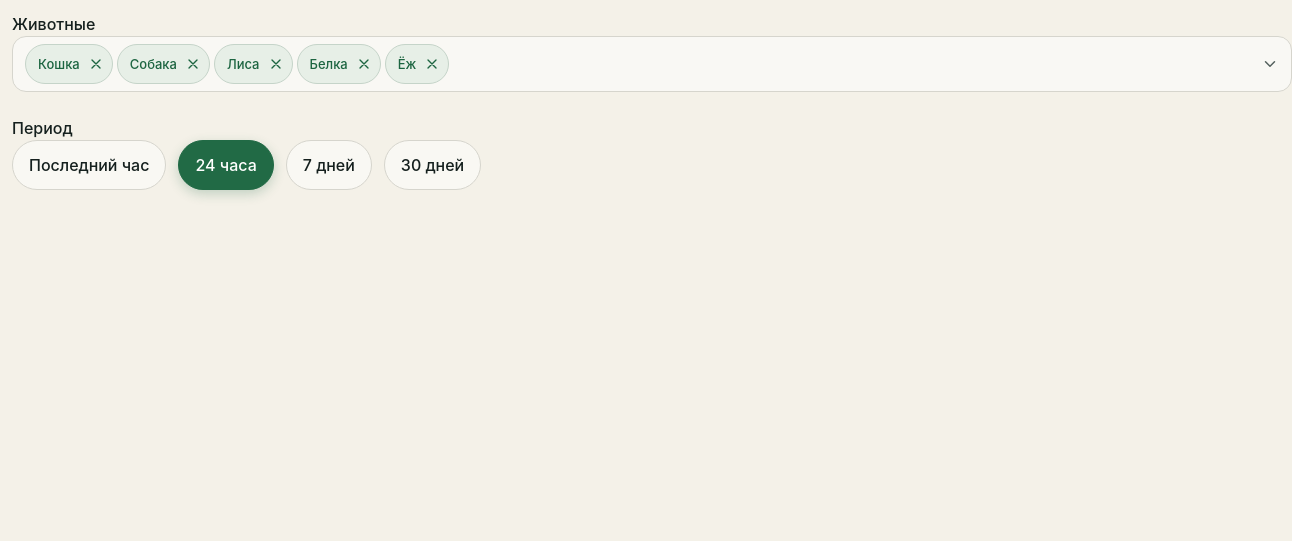
Test: MapFilterPanel › disables unselected animals after five selections
Click the dropdown named "Животные" at {"x": 652, "y": 64}, box [12,36,1291,92]
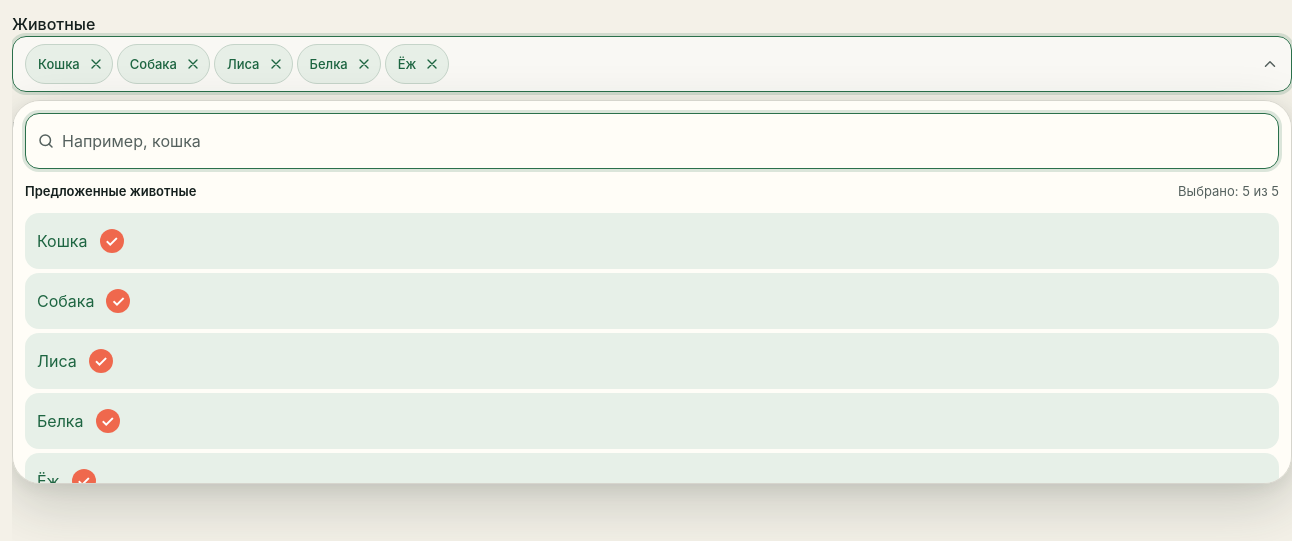
Expected: the option "Кошка ✓" is enabled, [25,213,1279,269]
Type "заяц" into the search field named "Поиск животных" at {"x": 652, "y": 141}, box [25,113,1279,169]
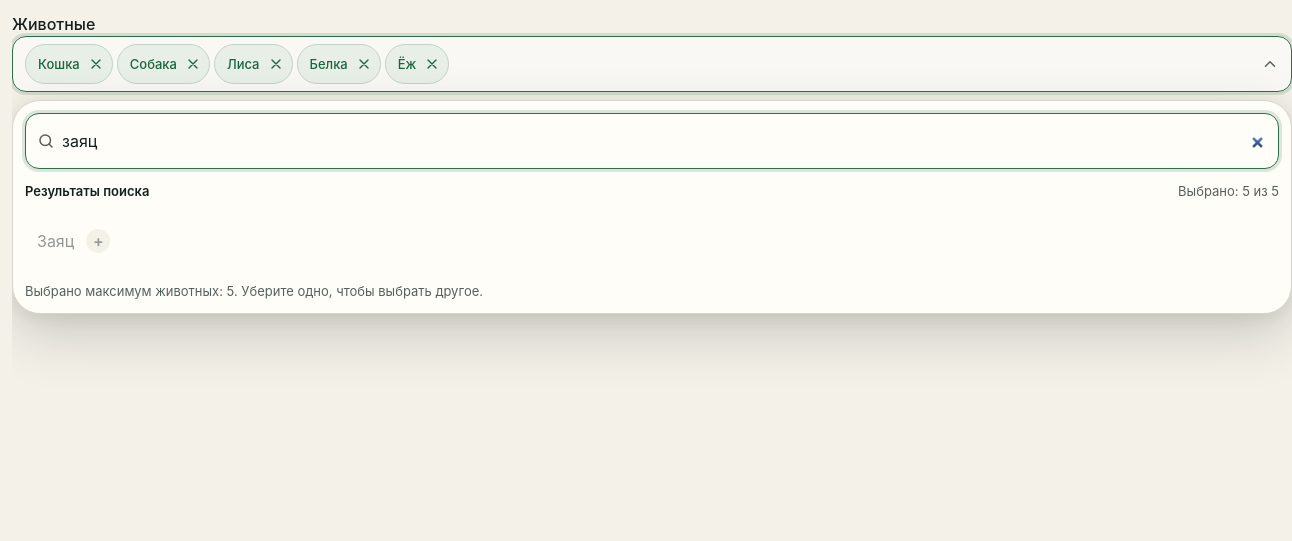
Expected: the text "Выбрано: 5 из 5" is shown, [1178,181,1279,201]
Expected: the option "Заяц +" is disabled, [25,213,1279,269]
